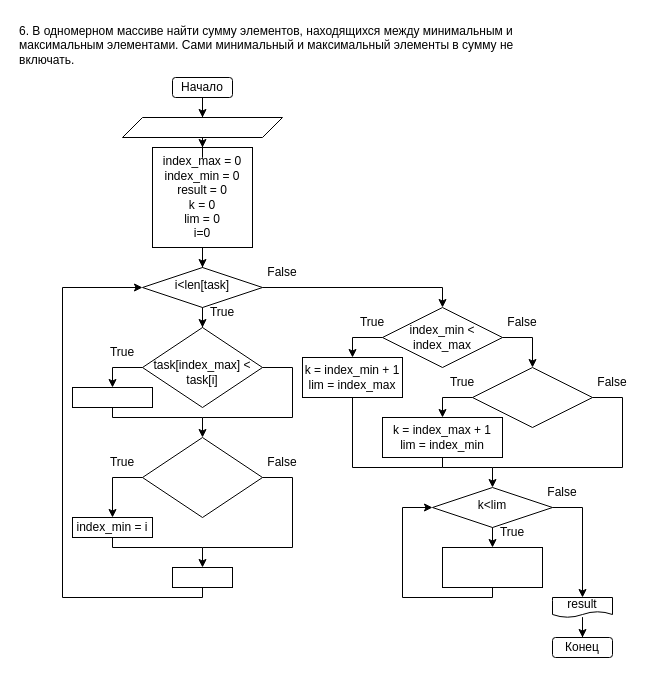
The diagram is 669 pixels wide and 675 high, and some of its shapes have lost their labels. Each missing label, with the centre of its shape:
i+=1: the point at 202,577
index_max < index_min: the point at 532,397
index_max = i: the point at 112,397
result += task[i] k+=1: the point at 492,567
task = [массив чисел]: the point at 202,127
task[index_min] > task[i]: the point at 202,477
